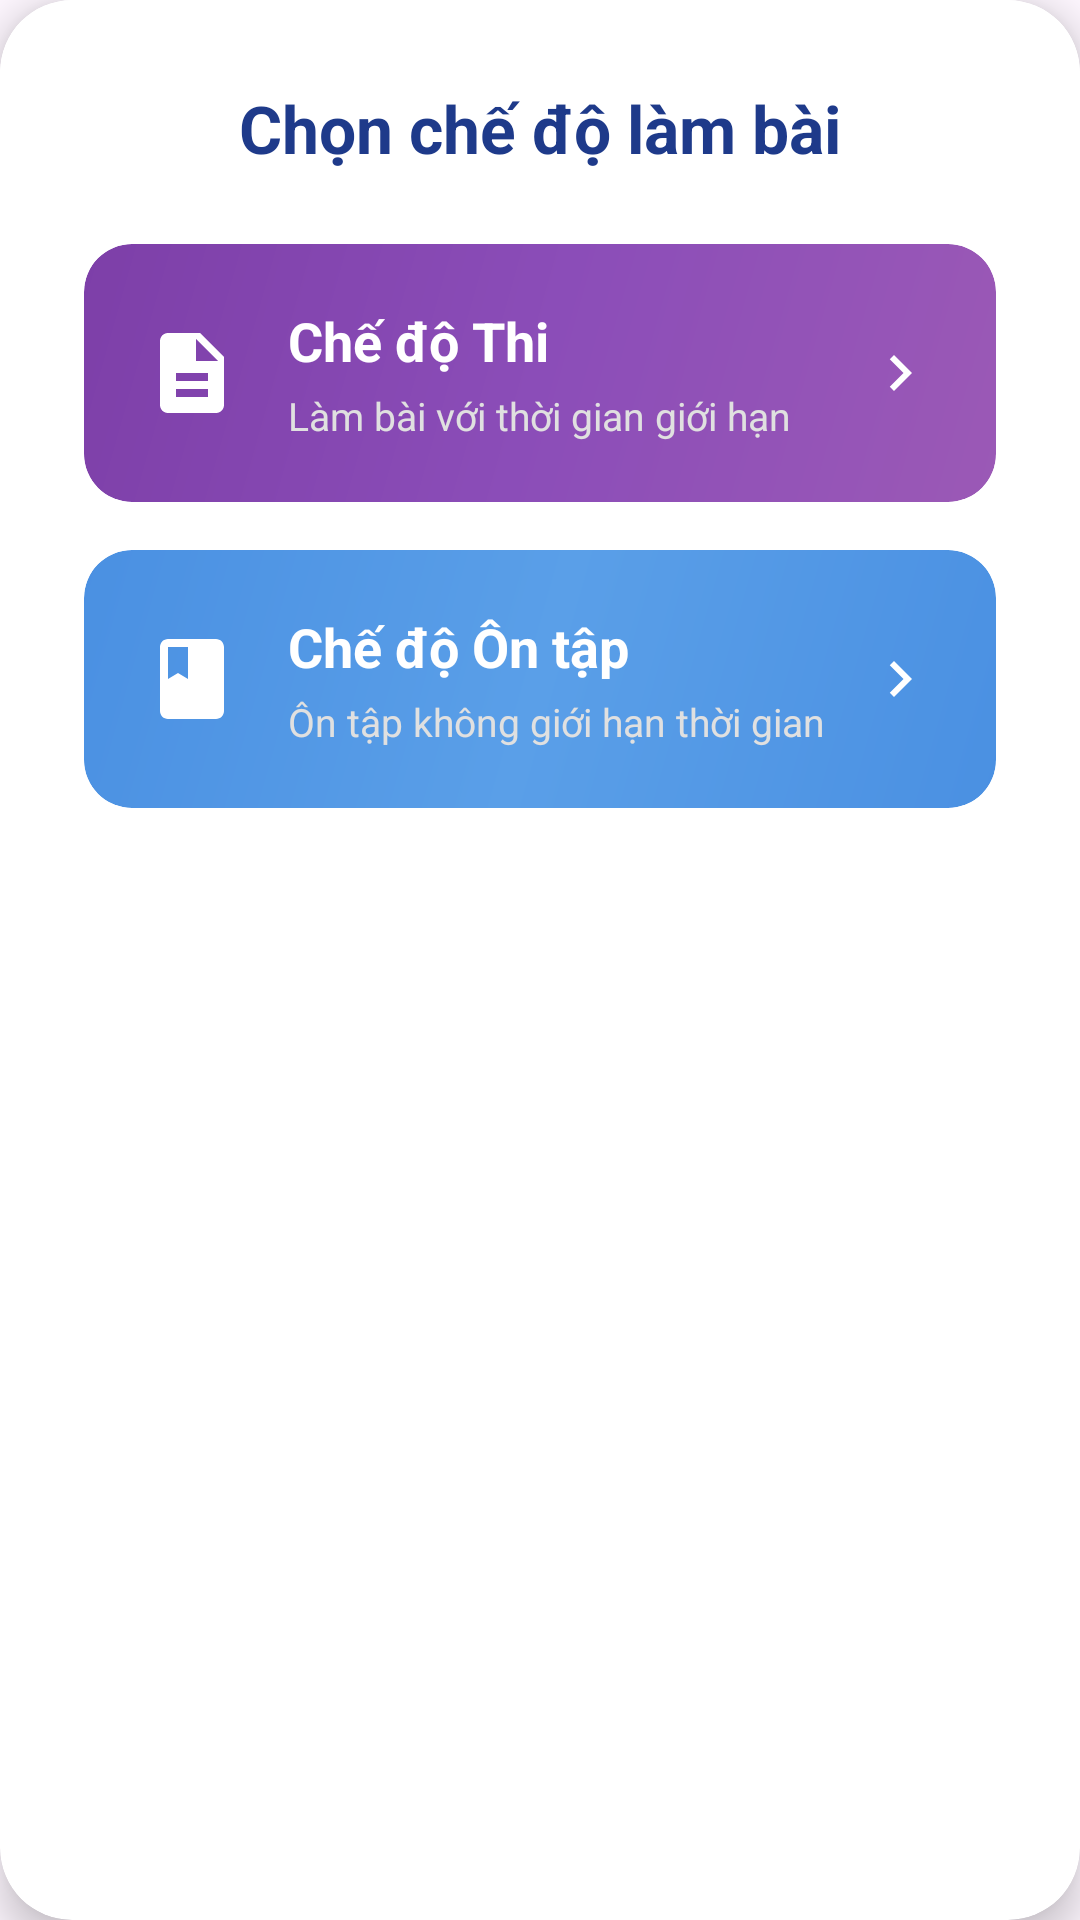

Screen size 1080 x 1920. Icon name, then its center in pixels as (x,y):
arrow right: (901,373), (901,679)
book: (192,679)
